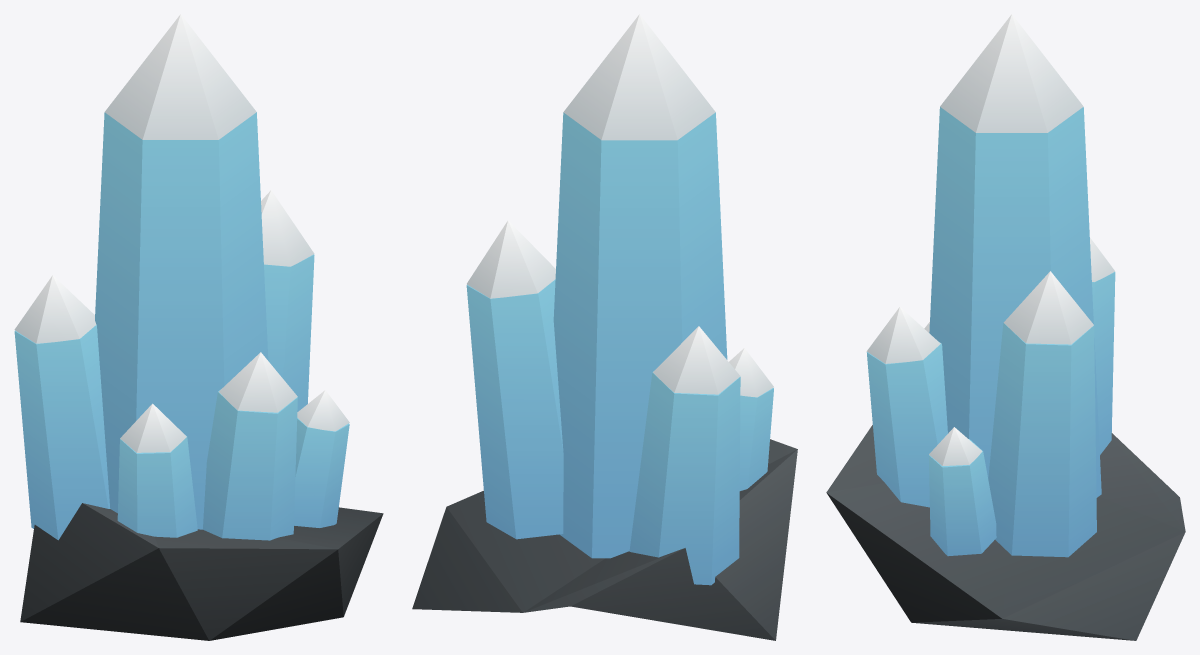
Rendered from spring_crystal.glb.
The picture shows the model from 3 angles, left to right: view 1: azimuth 30°, elevation 25°; view 2: azimuth 150°, elevation 25°; view 3: azimuth 270°, elevation 25°; orthographic projection. The views are drawn at different scales.
Parts seen in each view (by area): view 1: spring_crystal; view 2: spring_crystal; view 3: spring_crystal.
Part boxes in pixels (x1,y1,x2,y2): spring_crystal: (14, 14, 383, 640); spring_crystal: (412, 14, 797, 640); spring_crystal: (826, 14, 1185, 640).
Size of the model in its own units: 3.99 by 6.51 by 3.8.
Materials: 3 (3 with a texture image).
